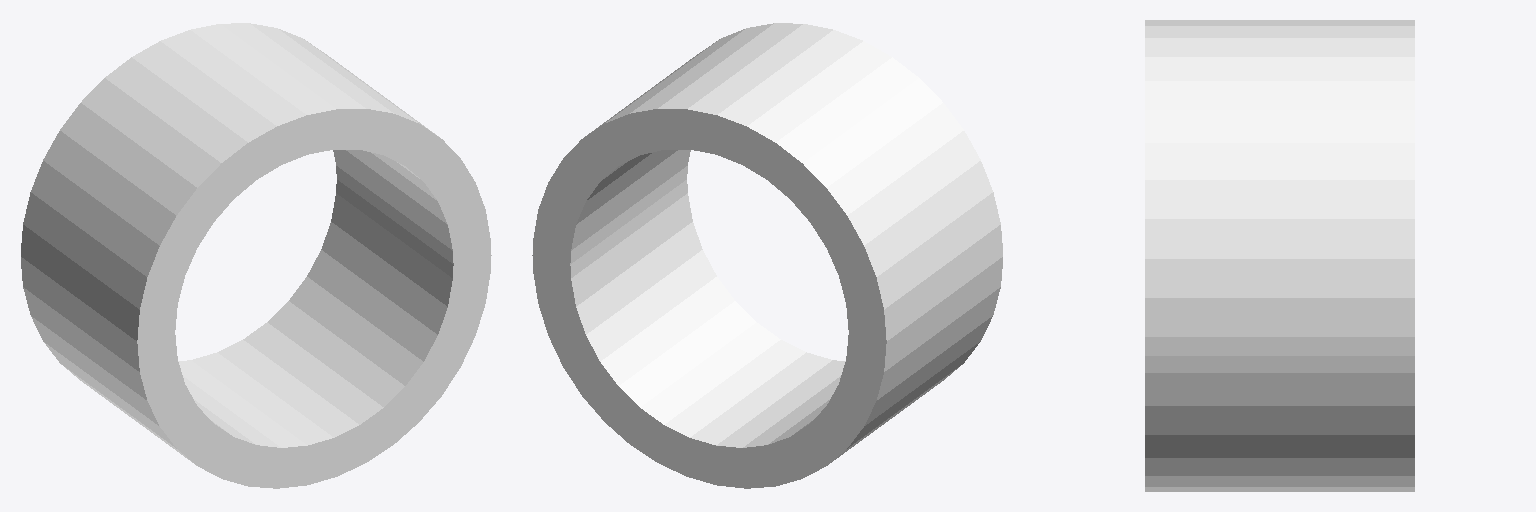
robot.urdf — hollowSylinder:
<robot
  name="hollowSylinder">
  <link
    name="hollowSylinder">
    <inertial>
      <origin
        xyz="2.7655E-18 -0.04 2.44921270764475E-18"
        rpy="0 0 0" />
      <mass
        value="0.47124" />
      <inertia
        ixx="0.0011849694790259"
        ixy="-9.36973616733145E-36"
        ixz="8.7831931911809E-36"
        iyy="0.00186728413347744"
        iyz="-4.17783430573734E-20"
        izz="0.0011849694790259" />
    </inertial>
    <visual>
      <origin
        xyz="0 0 0"
        rpy="1.5707963267949 0 0" />
      <geometry>
        <mesh
          filename="package://hollowSylinder/meshes/hollowSylinder.STL" />
      </geometry>
      <material
        name="">
        <color
          rgba="1 1 1 1" />
      </material>
    </visual>
    <collision>
      <origin
        xyz="0 0 0"
        rpy="1.5707963267949 0 0" />
      <geometry>
        <mesh
          filename="package://hollowSylinder/meshes/hollowSylinder.STL" />
      </geometry>
    </collision>
  </link>
</robot>

--- Render facts (derived) ---
Views: 3 orthographic renders of the robot side by side, from view 1: azimuth 30°, elevation 25°; view 2: azimuth 150°, elevation 25°; view 3: azimuth 270°, elevation 25°.
Model hollowSylinder with 1 links and 0 joints (none), rooted at hollowSylinder, posed every joint at zero.
Links seen in each view (by area): view 1: hollowSylinder; view 2: hollowSylinder; view 3: hollowSylinder.
Boxes of the visible links, box(x1,y1,x2,y2) form: hollowSylinder: box(21, 23, 491, 488); hollowSylinder: box(532, 23, 1002, 488); hollowSylinder: box(1145, 20, 1414, 491).
Bounding box of the posed robot: 0.14 × 0.08 × 0.1399 m (x, y, z).
1 mesh visuals loaded from 1 distinct referenced files (1 binary STL).